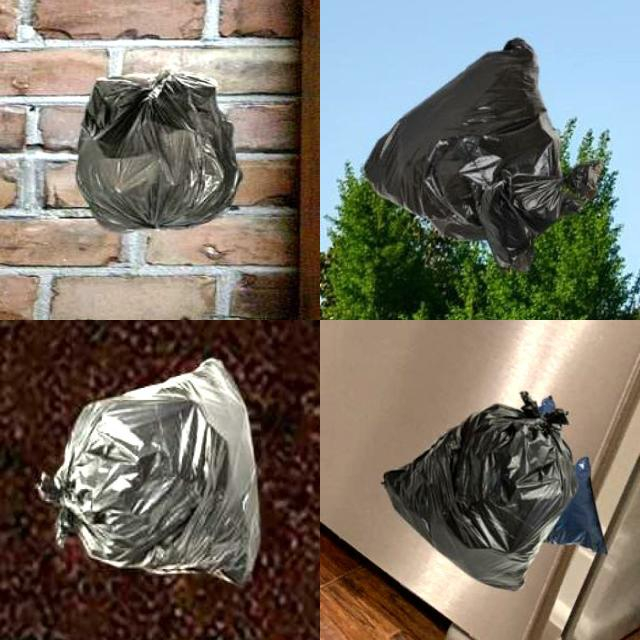Single-layer Plastic: (364, 39, 601, 269), (39, 359, 260, 585), (384, 391, 576, 590), (76, 70, 241, 231)
